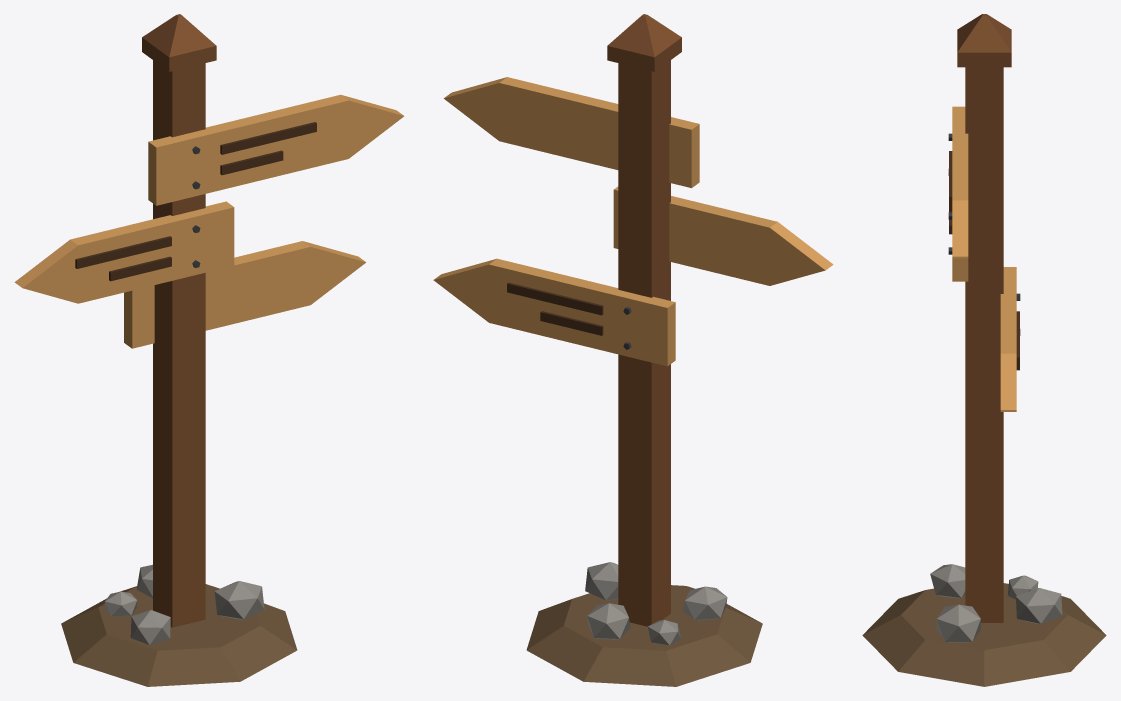
The model's file is trail_signpost.glb.
The picture shows the model from 3 angles, left to right: view 1: azimuth 30°, elevation 25°; view 2: azimuth 150°, elevation 25°; view 3: azimuth 270°, elevation 25°; orthographic projection.
Visible parts, largest first — view 1: trail_signpost; view 2: trail_signpost; view 3: trail_signpost.
Boxes of the visible parts, <box> form: trail_signpost: <box>14,14,404,686</box>; trail_signpost: <box>433,14,833,686</box>; trail_signpost: <box>862,14,1106,686</box>.
Size of the model in its own units: 1.37 by 2.13 by 0.76.
